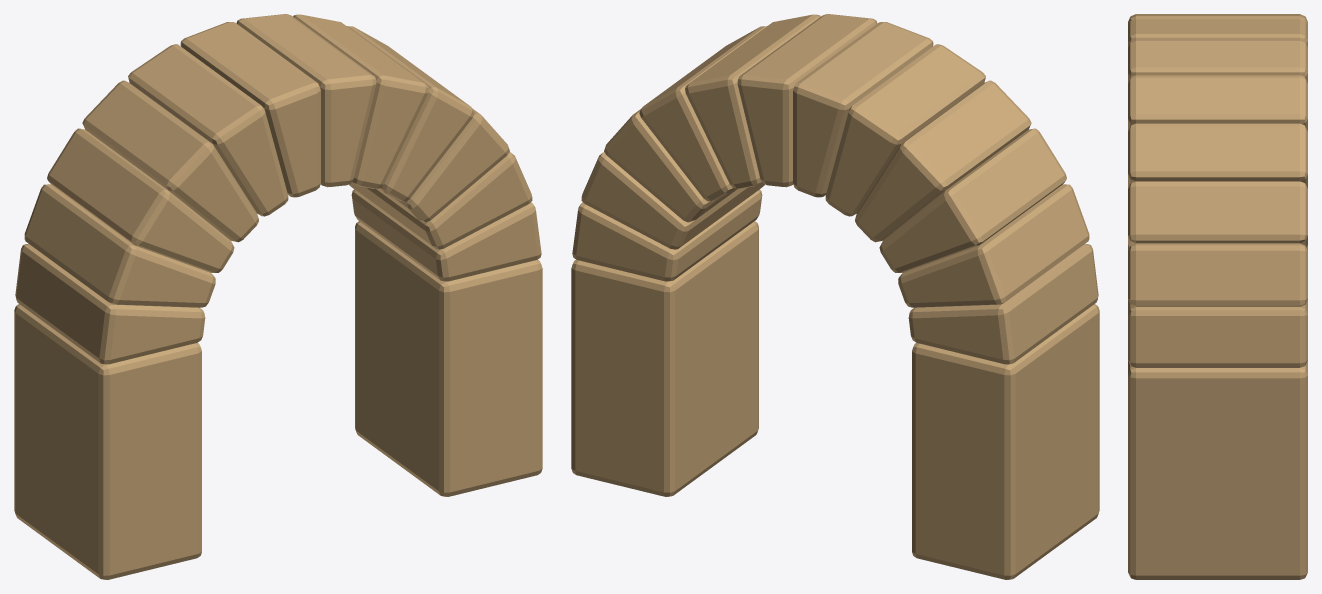
Rendered from sandcastle-gate.glb.
3 renders of one model, left to right at view 1: azimuth 30°, elevation 25°; view 2: azimuth 150°, elevation 25°; view 3: azimuth 270°, elevation 25°, orthographic.
Parts seen in each view (by area): view 1: Gate pier, Gate pier.001, Packed arch.009, Packed arch.008, Packed arch.010, Packed arch.007, Packed arch.011, Packed arch.006, Packed arch.005, Packed arch.004, Packed arch, Packed arch.001 (+2 smaller); view 2: Gate pier, Gate pier.001, Packed arch.009, Packed arch.008, Packed arch.010, Packed arch.007, Packed arch.011, Packed arch.006, Packed arch.005, Packed arch.004, Packed arch, Packed arch.001 (+2 smaller); view 3: Gate pier.001, Packed arch.001, Packed arch.002, Packed arch, Packed arch.003, Packed arch.004, Packed arch.005, Packed arch.006, Packed arch.007.
Part boxes in pixels (<box>): Gate pier: <box>14,304,201,579</box>; Gate pier.001: <box>355,221,542,496</box>; Packed arch.009: <box>47,128,234,272</box>; Packed arch.008: <box>82,80,258,242</box>; Packed arch.010: <box>24,184,215,307</box>; Packed arch.007: <box>128,44,288,216</box>; Packed arch.011: <box>15,244,205,364</box>; Packed arch.006: <box>180,22,320,197</box>; Packed arch.005: <box>236,14,376,187</box>; Packed arch.004: <box>293,14,428,188</box>; Packed arch: <box>351,189,541,281</box>; Packed arch.001: <box>349,152,532,249</box>; Gate pier: <box>912,304,1099,579</box>; Gate pier.001: <box>571,221,758,496</box>; Packed arch.009: <box>879,128,1066,272</box>; Packed arch.008: <box>855,80,1031,242</box>; Packed arch.010: <box>898,184,1089,307</box>; Packed arch.007: <box>825,44,985,216</box>; Packed arch.011: <box>908,244,1098,364</box>; Packed arch.006: <box>793,22,933,197</box>; Packed arch.005: <box>737,14,877,187</box>; Packed arch.004: <box>685,14,820,188</box>; Packed arch: <box>572,189,762,281</box>; Packed arch.001: <box>581,152,764,249</box>; Gate pier.001: <box>1128,360,1307,579</box>; Packed arch.001: <box>1128,243,1307,306</box>; Packed arch.002: <box>1128,181,1307,247</box>; Packed arch: <box>1128,299,1307,367</box>; Packed arch.003: <box>1128,123,1307,188</box>; Packed arch.004: <box>1128,75,1307,131</box>; Packed arch.005: <box>1128,39,1307,83</box>; Packed arch.006: <box>1128,19,1307,47</box>; Packed arch.007: <box>1128,14,1307,26</box>.
Bounding box in the file's own units: 0.56 × 0.5388 × 0.2.
